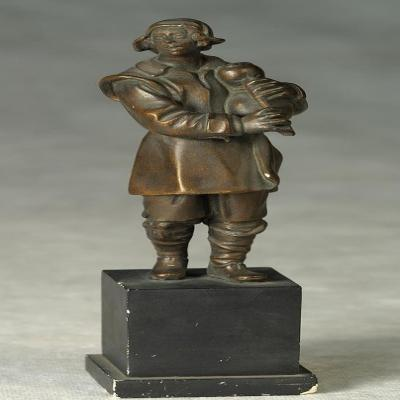sculpture: (85, 18, 318, 400)
